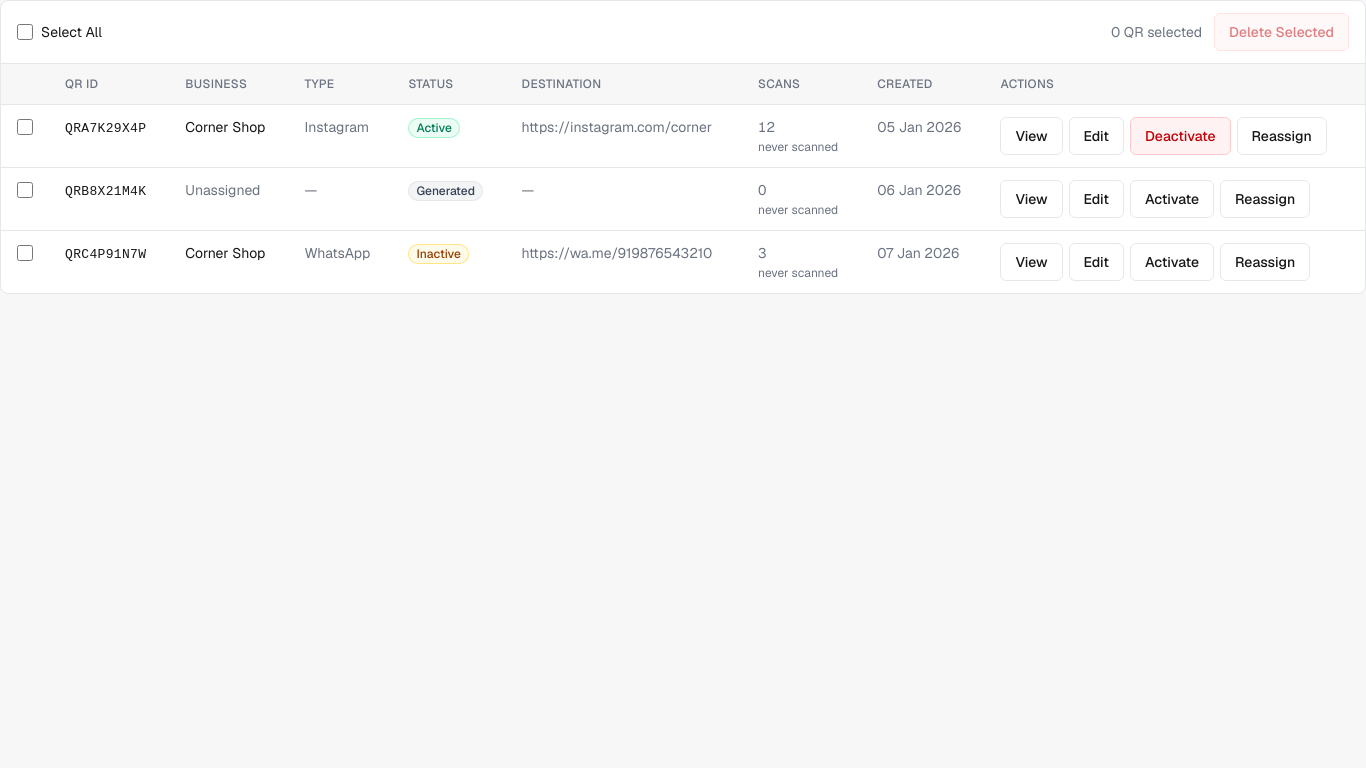
Scenario: confirming a deletion › asks first and says how many codes are going
Click the checkbox named "Select QRA7K29X4P": click(25, 127) [17,119,33,135]
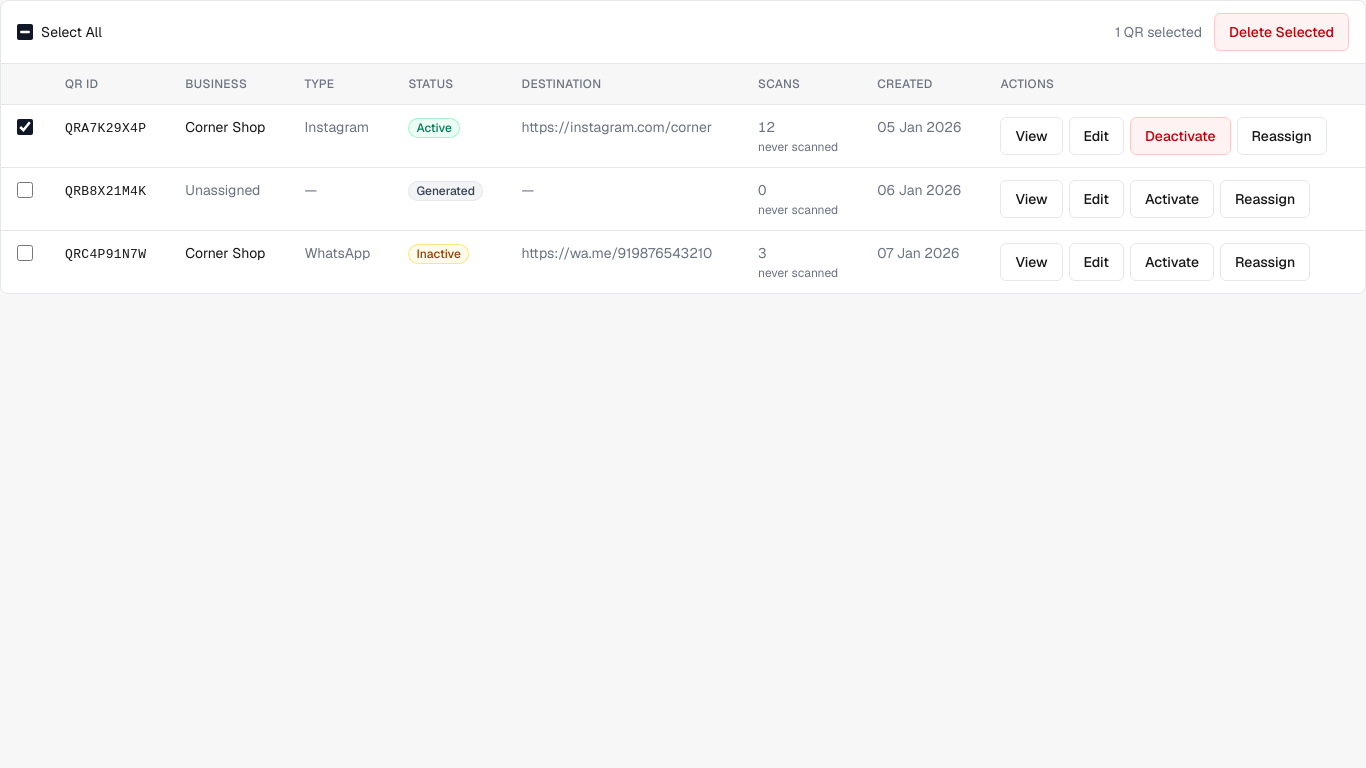
Click the checkbox named "Select QRC4P91N7W": click(25, 253) [17,245,33,261]
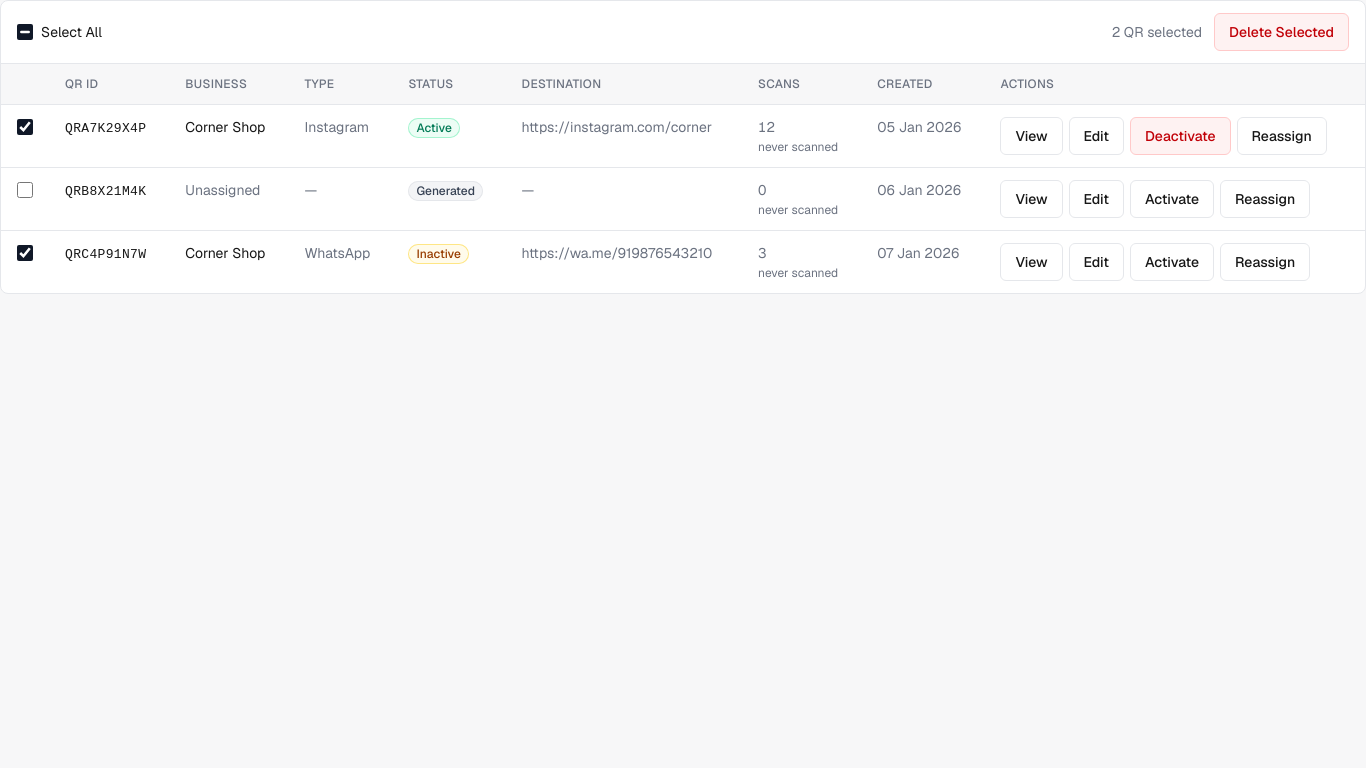
Click the button "Delete Selected": click(1282, 32) [1214,13,1349,51]
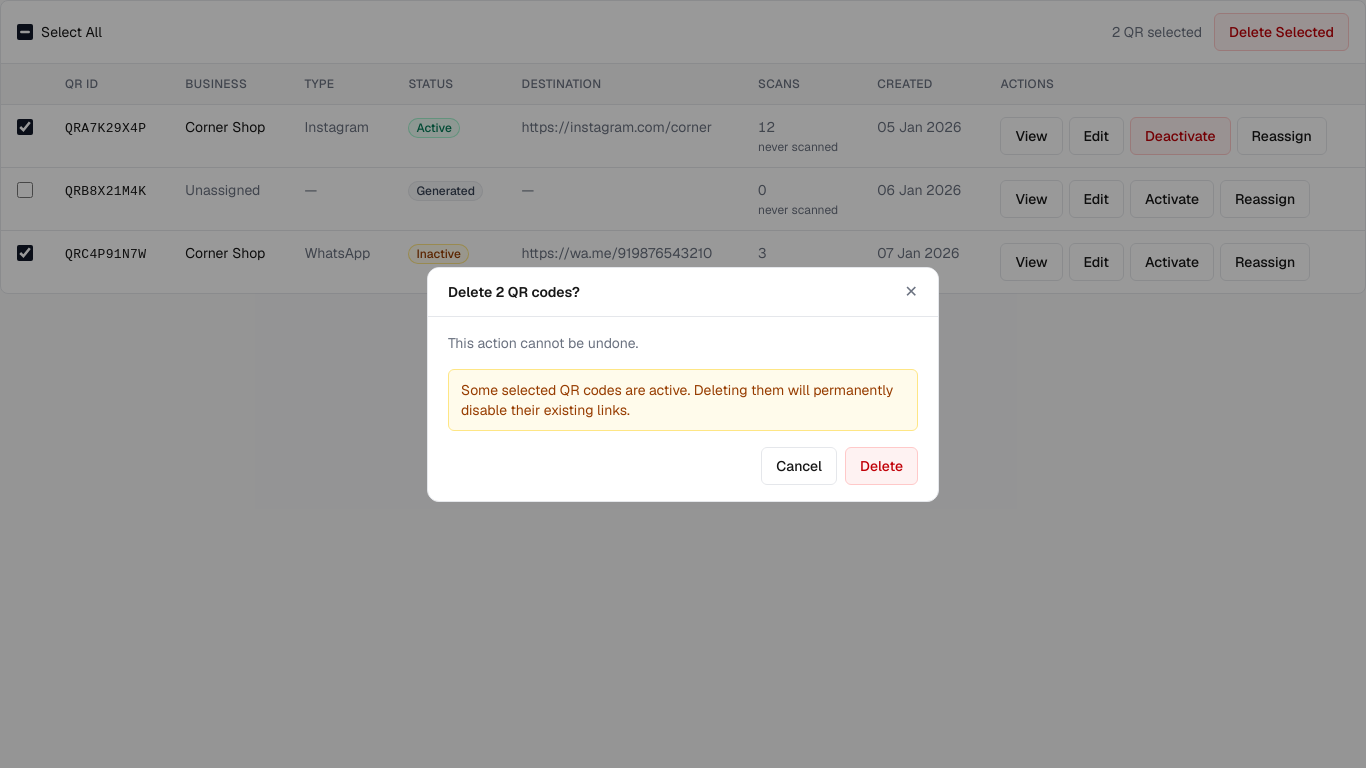
expect the dialog shows "Delete 2 QR codes?": met, box [427,266,939,502]
expect the dialog shows "This action cannot be undone.": met, box [448,334,638,352]
expect the button "Cancel" is shown: met, box [761,446,837,484]
